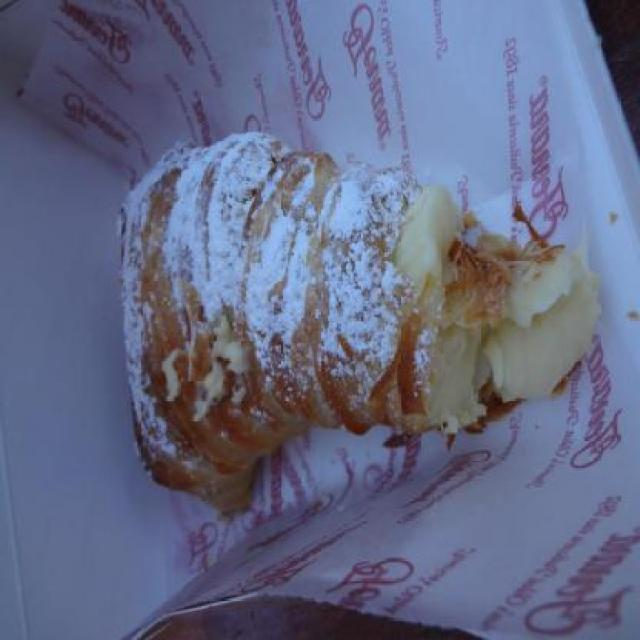Croissant: (114, 111, 582, 514)
